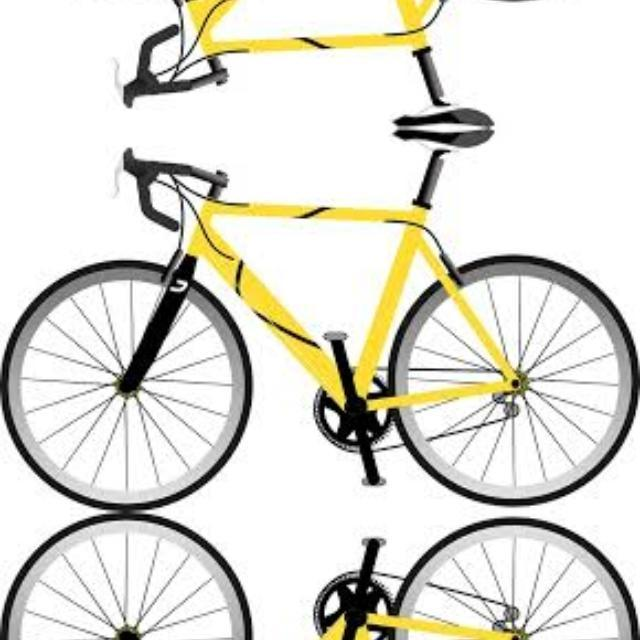obstacle: (2, 128, 640, 508), (2, 0, 639, 128), (2, 515, 639, 640)
